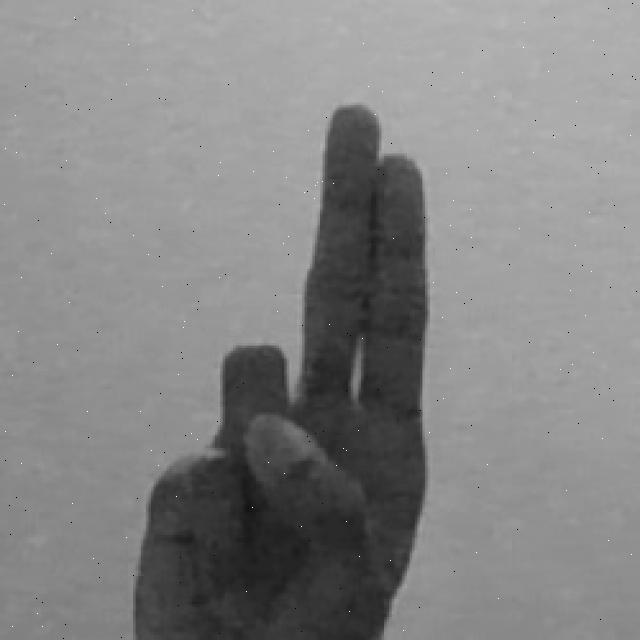U: (125, 99, 438, 640)
